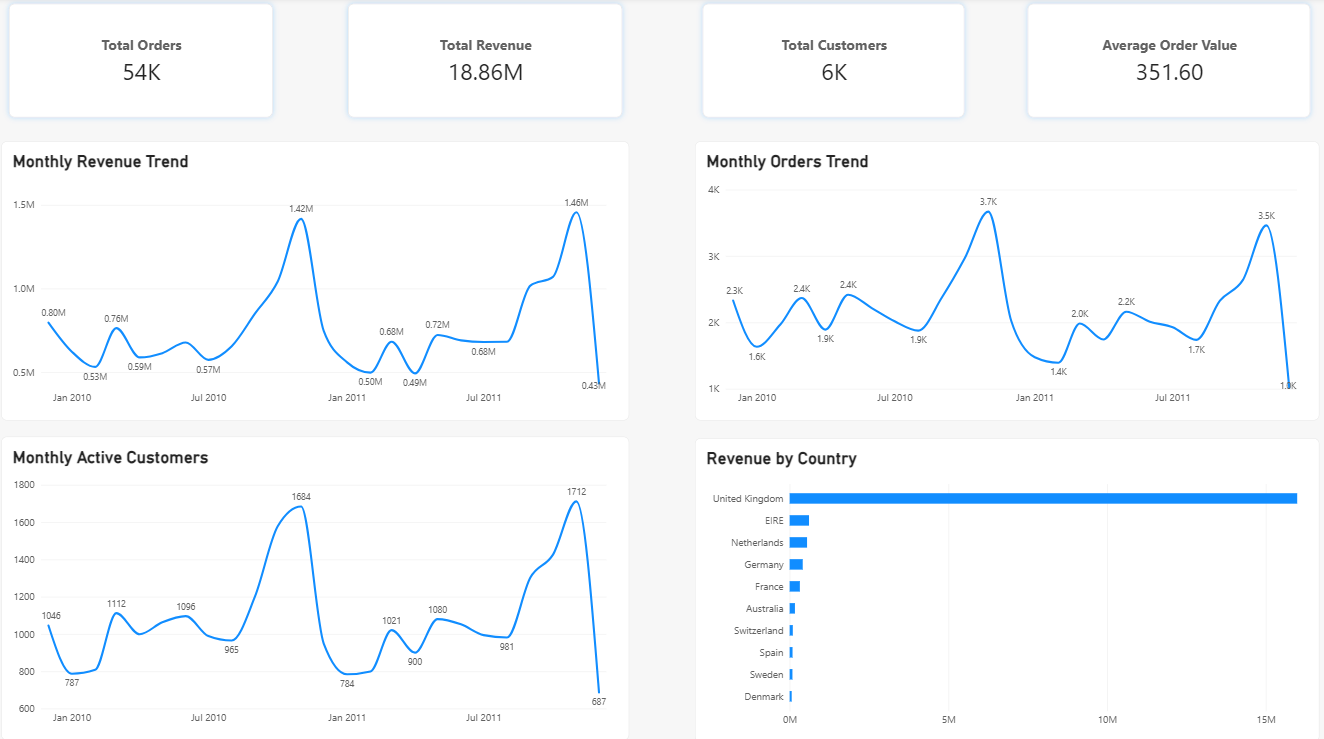

The dashboard page shown, as its layout file describes it:
{"tool":"powerbi","page":{"name":"Executive Overview","canvas":[1920,1080],"ordinal":0},"visuals":[{"type":"cardVisual","fields":{"Data":["Online_Retail_Dataset.Order Count"]},"box":[10,0,400,185],"z":0},{"type":"cardVisual","fields":{"Data":["Online_Retail_Dataset.Revenue Total"]},"box":[495,0,415,185],"z":1000},{"type":"cardVisual","fields":{"Data":["Online_Retail_Dataset.Customer Count"]},"box":[1002.5,0,397.5,185],"z":2000},{"type":"cardVisual","fields":{"Data":["Online_Retail_Dataset.Average Order Value"]},"box":[1470,0,427.5,185],"z":3000},{"type":"lineChart","title":"Monthly Revenue Trend","fields":{"Y":["Online_Retail_Dataset.Revenue Total"],"Category":["Online_Retail_Dataset.YearMonth.Variation.Date Hierarchy.Year","Online_Retail_Dataset.YearMonth.Variation.Date Hierarchy.Month"]},"box":[10,207.5,900,400],"z":4000},{"type":"lineChart","title":"Monthly Orders Trend","fields":{"Y":["Online_Retail_Dataset.Order Count"],"Category":["Online_Retail_Dataset.YearMonth.Variation.Date Hierarchy.Year","Online_Retail_Dataset.YearMonth.Variation.Date Hierarchy.Month"]},"box":[1002.5,207.5,895,400],"z":5000},{"type":"lineChart","title":"Monthly Active Customers","fields":{"Y":["Online_Retail_Dataset.Active Customers"],"Category":["Online_Retail_Dataset.YearMonth.Variation.Date Hierarchy.Year","Online_Retail_Dataset.YearMonth.Variation.Date Hierarchy.Month"]},"box":[10,632.5,900,435],"z":6000},{"type":"clusteredBarChart","title":"Revenue by Country","fields":{"Category":["Online_Retail_Dataset.Country"],"Y":["Online_Retail_Dataset.Revenue Total"]},"box":[1003,633,895,435],"z":7000}]}

Visuals, with their boxes in screenshot pixels (x1, y1, x2, y2), scaled from the page's 1920x1080 canvas onto the 1324x739 screenshot:
cardVisual - Online_Retail_Dataset.Order Count: x1=7, y1=0, x2=283, y2=127
cardVisual - Online_Retail_Dataset.Revenue Total: x1=341, y1=0, x2=628, y2=127
cardVisual - Online_Retail_Dataset.Customer Count: x1=691, y1=0, x2=965, y2=127
cardVisual - Online_Retail_Dataset.Average Order Value: x1=1014, y1=0, x2=1308, y2=127
"Monthly Revenue Trend" lineChart: x1=7, y1=142, x2=628, y2=416
"Monthly Orders Trend" lineChart: x1=691, y1=142, x2=1308, y2=416
"Monthly Active Customers" lineChart: x1=7, y1=433, x2=628, y2=730
"Revenue by Country" clusteredBarChart: x1=692, y1=433, x2=1309, y2=731
